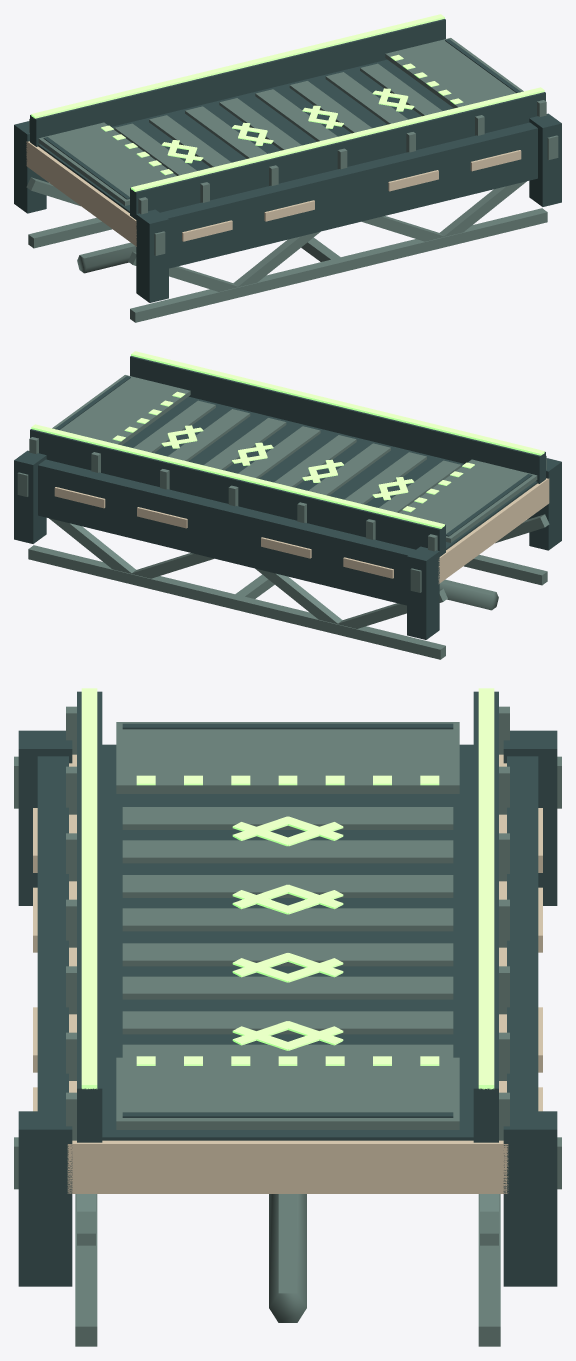
File: Deck_Conveyor_Belt_v4_6_lab2.glb
3 views of the same model, one above another, from view 1: azimuth 30°, elevation 25°; view 2: azimuth 150°, elevation 25°; view 3: azimuth 270°, elevation 25° (orthographic). The views are drawn at different scales.
Visible parts, largest first — view 1: Deck_Conveyor_Belt_v4_6, Treads, TreadsRev; view 2: Deck_Conveyor_Belt_v4_6, Treads, TreadsRev; view 3: Deck_Conveyor_Belt_v4_6, Treads, TreadsRev.
Part boxes in pixels (box(x1,y1,x2,y2)): Deck_Conveyor_Belt_v4_6: box(14, 14, 561, 322); Treads: box(114, 63, 442, 175); TreadsRev: box(137, 64, 440, 174); Deck_Conveyor_Belt_v4_6: box(14, 351, 561, 659); Treads: box(133, 400, 461, 512); TreadsRev: box(133, 401, 439, 512); Deck_Conveyor_Belt_v4_6: box(14, 688, 561, 1346); Treads: box(122, 807, 453, 1057); TreadsRev: box(122, 807, 453, 1057).
Bounding box in the file's own units: 6.07 × 1.83 × 3.48.
